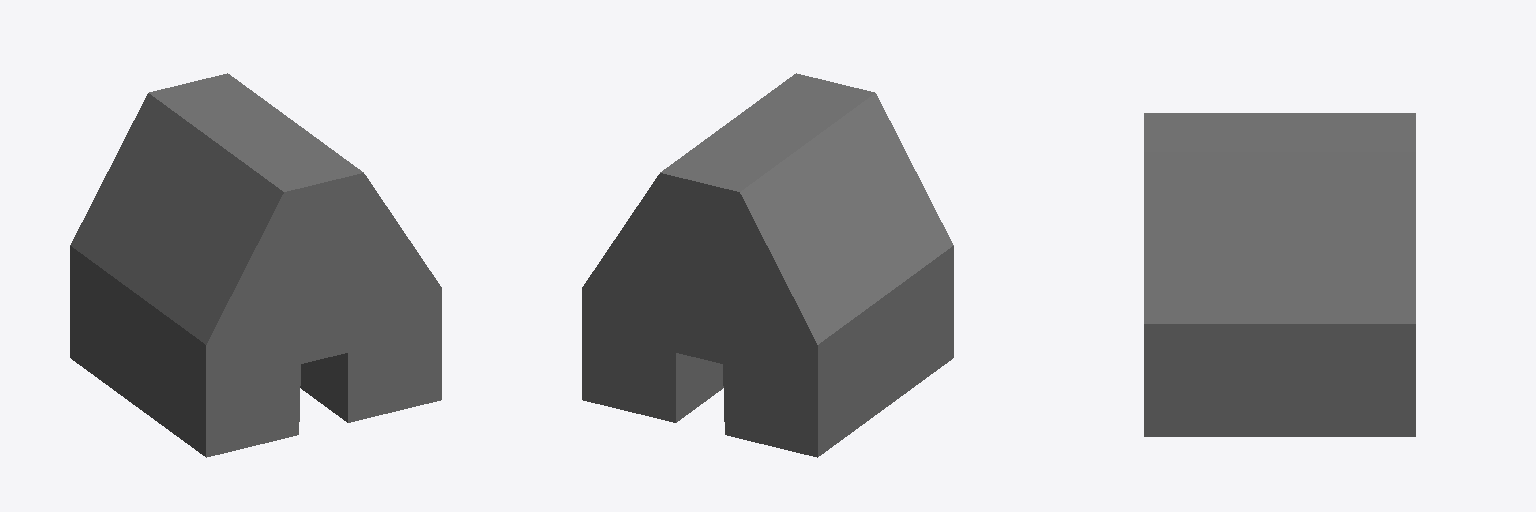
3 views of the same model, side by side, from view 1: azimuth 30°, elevation 25°; view 2: azimuth 150°, elevation 25°; view 3: azimuth 270°, elevation 25° (orthographic).
Parts seen in each view (by area): view 1: test3; view 2: test3; view 3: test3.
Part boxes in pixels (bbox=[...]): test3: bbox=[70, 73, 441, 457]; test3: bbox=[582, 73, 953, 457]; test3: bbox=[1144, 113, 1415, 436].
Size of the model in its own units: 1 by 1 by 1.